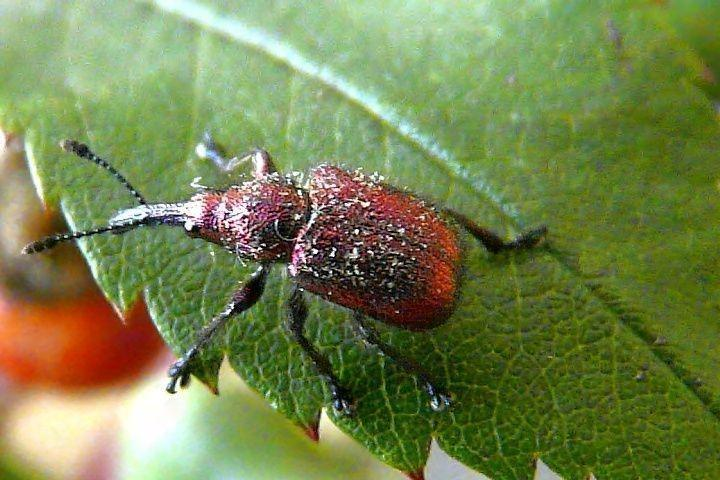dolgonosik: (28, 115, 545, 428)
